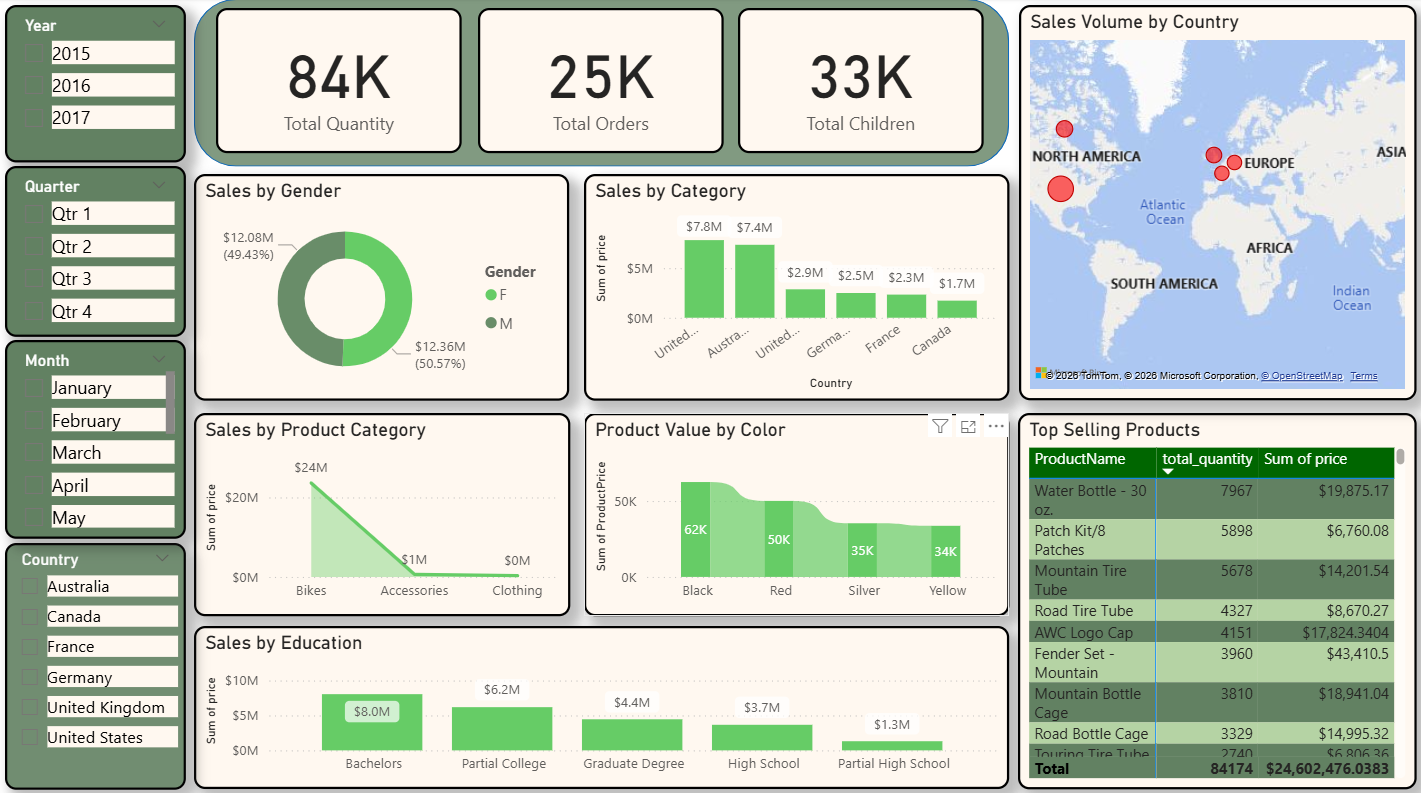

The dashboard page shown, as its layout file describes it:
{"tool":"powerbi","page":{"name":"Dashboard Home","canvas":[1280,720],"ordinal":0},"visuals":[{"type":"donutChart","title":"Sales by Gender","fields":{"Category":["Customers.Gender"],"Y":["Sum(sales.price)"]},"box":[177.3,157.3,336.4,202.7],"z":0},{"type":"lineStackedColumnComboChart","title":"Sales by Category","fields":{"Category":["Territories.Country"],"Y":["Sum(sales.price)"]},"box":[526.4,157.3,380.9,202.7],"z":1000},{"type":"areaChart","title":"Sales by Product Category","fields":{"Y":["Sum(sales.price)"],"Category":["Kategoriya.CategoryName"]},"box":[177.3,371.6,336.7,181.8],"z":2000},{"type":"ribbonChart","title":"Product Value by Color","fields":{"Category":["Products.ProductColor"],"Y":["Sum(Products.ProductPrice)"]},"box":[526.6,371.6,380.6,181.8],"z":3000},{"type":"lineStackedColumnComboChart","title":"Sales by Education","fields":{"Category":["Customers.EducationLevel"],"Y":["Sum(sales.price)"]},"box":[177.3,562.7,730,146.4],"z":4000},{"type":"shape","box":[177.3,0.9,730,150],"z":5000},{"type":"pivotTable","title":"Top Selling Products","fields":{"Rows":["Products.ProductName"],"Values":["sales.total_quantity","Sum(sales.price)"]},"box":[915.5,371.8,357.3,337.3],"z":6000},{"type":"card","fields":{"Values":["sales.total_quantity"]},"box":[197.3,9.1,220,130],"z":7000},{"type":"card","fields":{"Values":["Sum(Customers.TotalChildren)"]},"box":[664.5,9.1,220,130],"z":8000},{"type":"card","fields":{"Values":["sales.total_order"]},"box":[431.8,9.1,220,130],"z":9000},{"type":"slicer","fields":{"Values":["Calendar.Date.Variation.Date Hierarchy.Year"]},"box":[8.1,6.3,162.1,140.6],"z":10000},{"type":"slicer","fields":{"Values":["Calendar.Date.Variation.Date Hierarchy.Quarter"]},"box":[8.1,150.4,162.1,153.1],"z":11000},{"type":"slicer","fields":{"Values":["Territories.Country"]},"box":[8.1,488.1,162.1,221.2],"z":12000},{"type":"slicer","fields":{"Values":["Calendar.Date.Variation.Date Hierarchy.Month"]},"box":[8.1,306.3,162.1,178.2],"z":13000},{"type":"map","title":"Sales Volume by Country","fields":{"Category":["Territories.Country"],"Size":["sales.total_quantity"]},"box":[916.4,6.4,356.4,353.6],"z":14000}]}

Visuals, with their boxes in screenshot pixels (x1, y1, x2, y2), scaled from the page's 1280x720 canvas onto the 1421x793 screenshot:
"Sales by Gender" donutChart: 197 173 570 397
"Sales by Category" lineStackedColumnComboChart: 584 173 1007 397
"Sales by Product Category" areaChart: 197 409 571 610
"Product Value by Color" ribbonChart: 585 409 1007 610
"Sales by Education" lineStackedColumnComboChart: 197 620 1007 781
shape: 197 1 1007 166
"Top Selling Products" pivotTable: 1016 409 1413 781
card - sales.total_quantity: 219 10 463 153
card - Sum(Customers.TotalChildren): 738 10 982 153
card - sales.total_order: 479 10 724 153
slicer - Calendar.Date.Variation.Date Hierarchy.Year: 9 7 189 162
slicer - Calendar.Date.Variation.Date Hierarchy.Quarter: 9 166 189 334
slicer - Territories.Country: 9 538 189 781
slicer - Calendar.Date.Variation.Date Hierarchy.Month: 9 337 189 534
"Sales Volume by Country" map: 1017 7 1413 397
